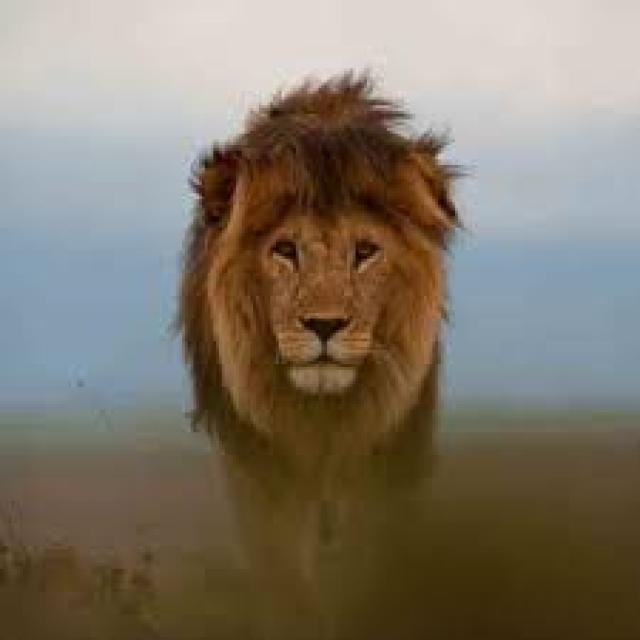Lion: (180, 66, 473, 637)
